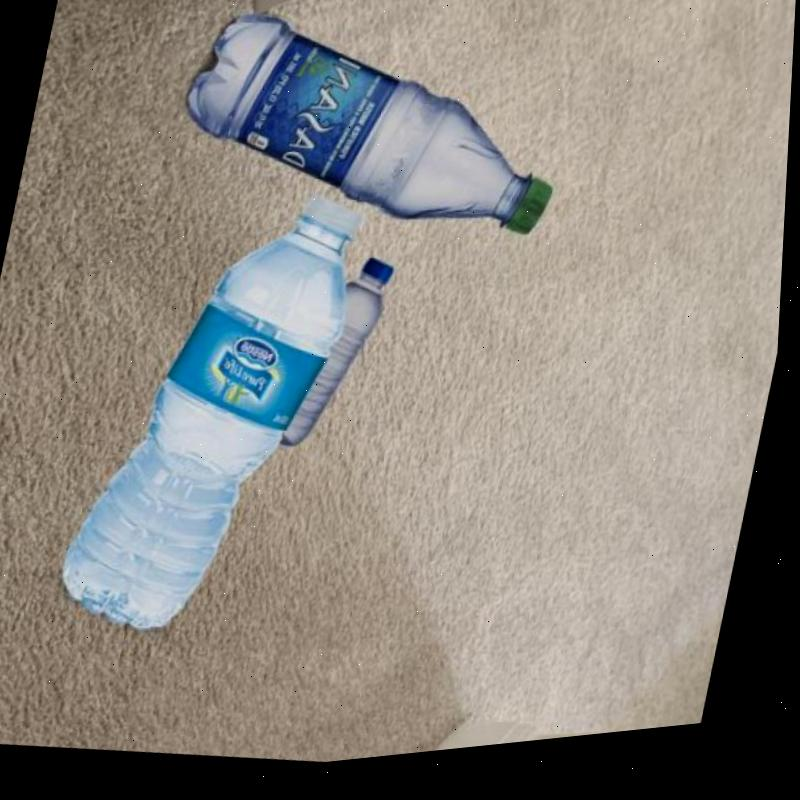botella: (53, 171, 376, 659), (162, 0, 590, 281), (285, 254, 398, 463)
